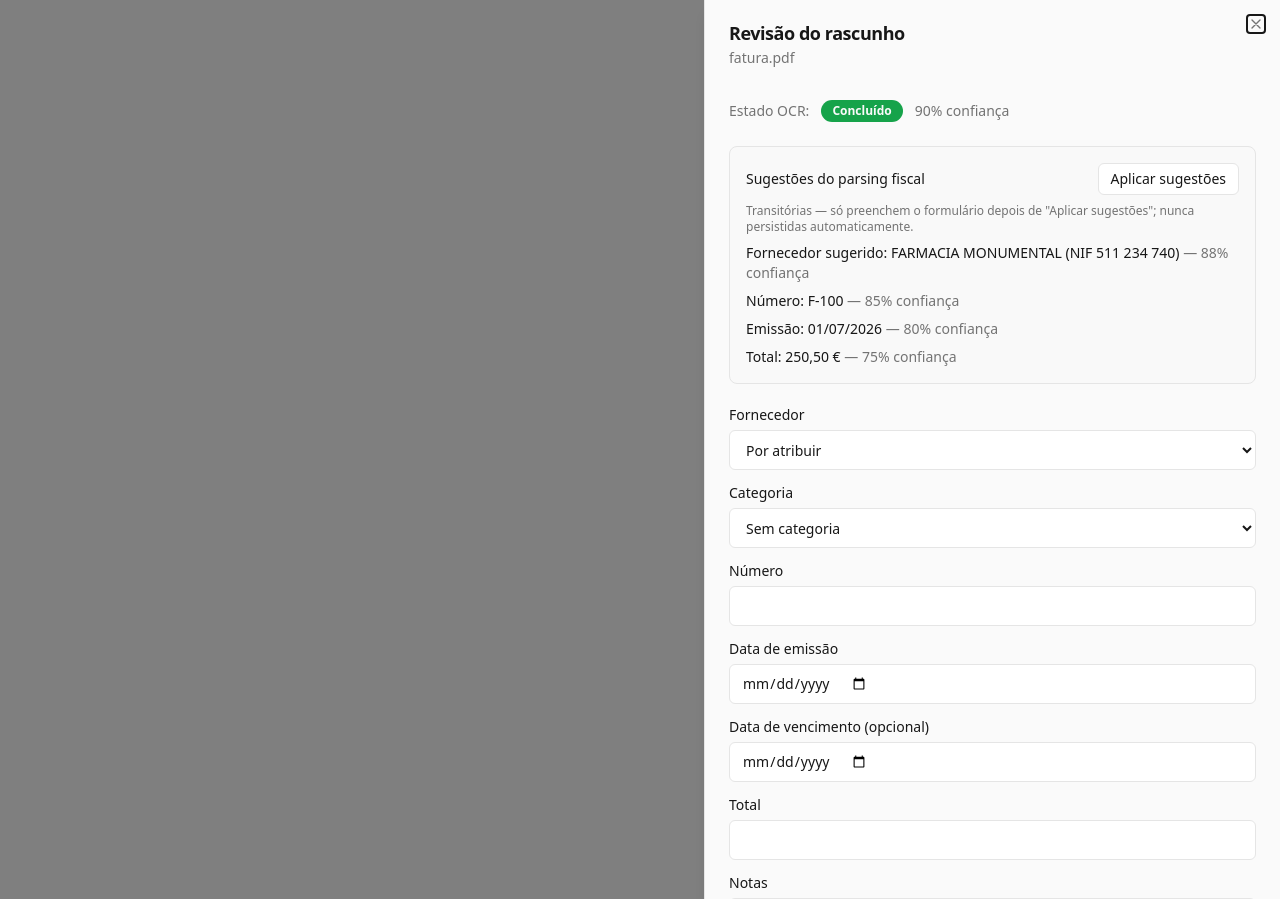
InvoiceDraftReviewSheet (Fase 6.8) › "Aplicar sugestões" resolve o fornecedor (correção Fase 6.8) › fornecedor encontrado por NIF — Select atualizado sem o utilizador abrir o dropdown
Click the button "Aplicar sugestões": (1168, 179) [1098,163,1239,195]
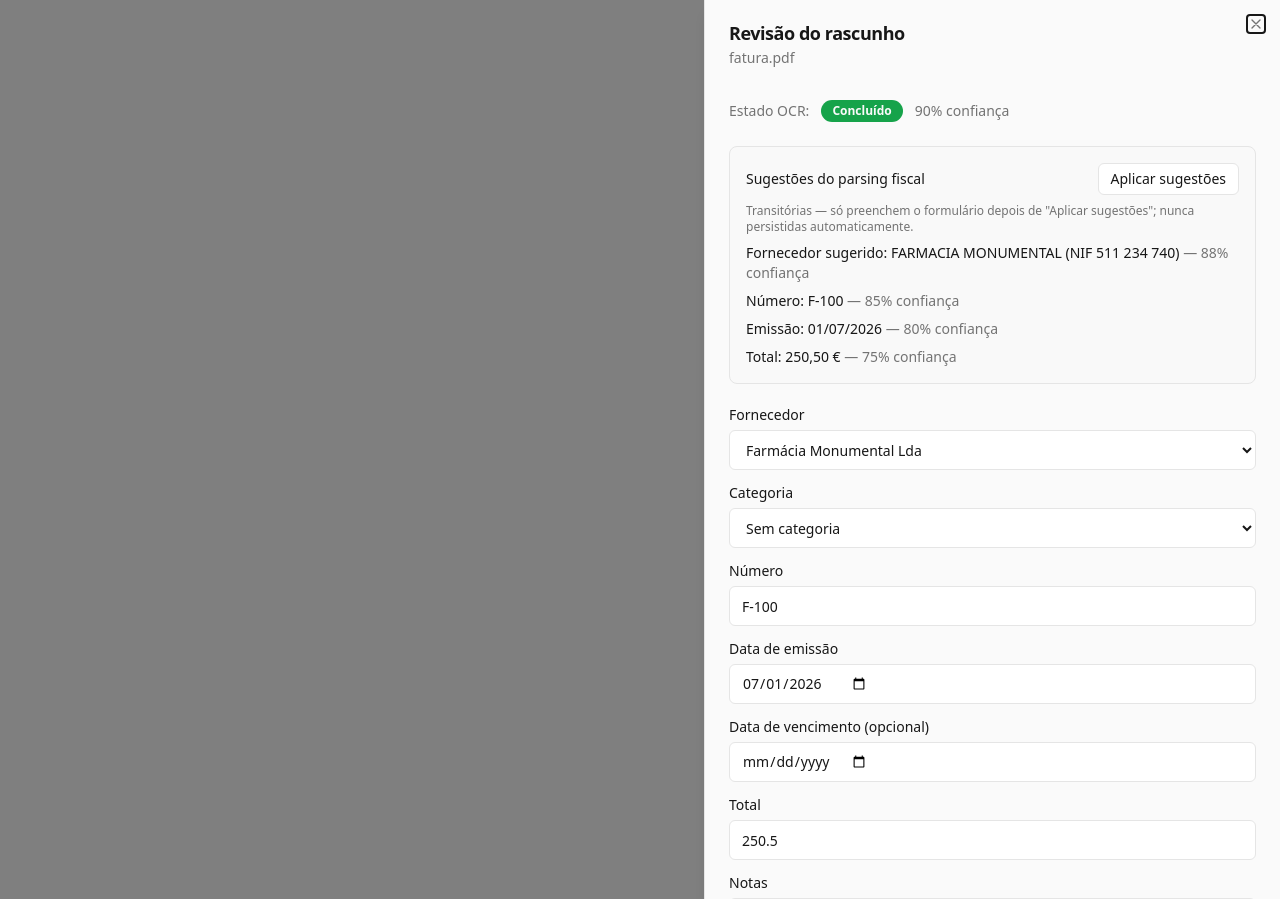
Result: the 1st dropdown shows "Farmácia Monumental Lda" at [729,430,1256,470]
